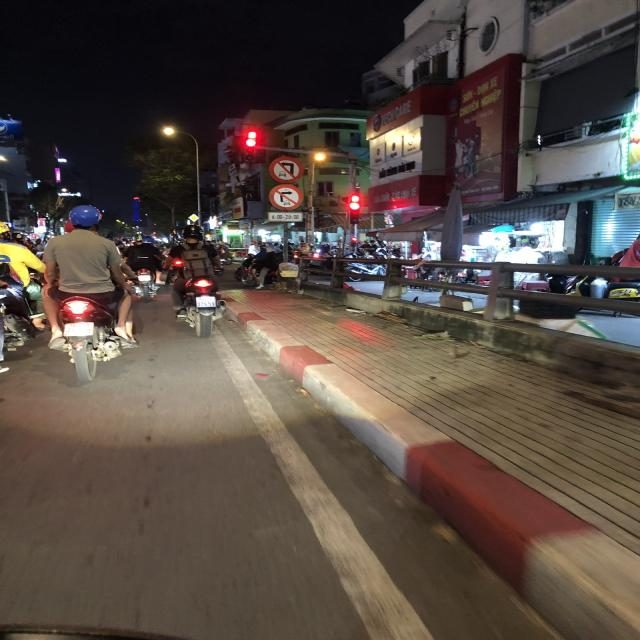Bien bao cam xe o to re phai: (267, 182, 305, 212)
Bien bao cam xe o to re trai: (268, 154, 304, 185)
